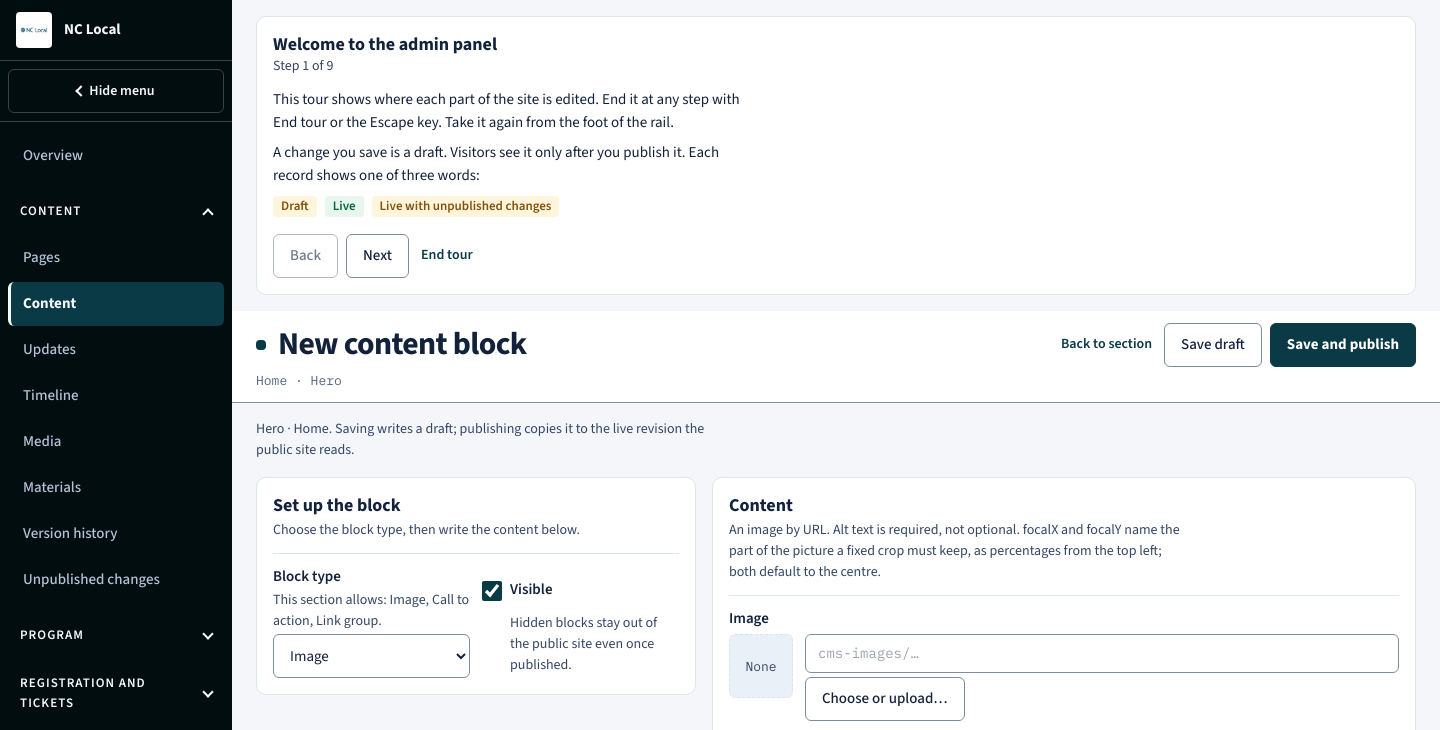
Test: AdminContentBlockEditor value fields › announces the warning through a polite live region that is there before it appears
The width and height of the screenshot is (1440, 730).
Check: the heading "New content block" is shown, box x1=278 y1=326 x2=527 y2=364
Select "Call to action" in the dropdown labelled "Block type" at (372, 656), box x1=273 y1=634 x2=470 y2=678
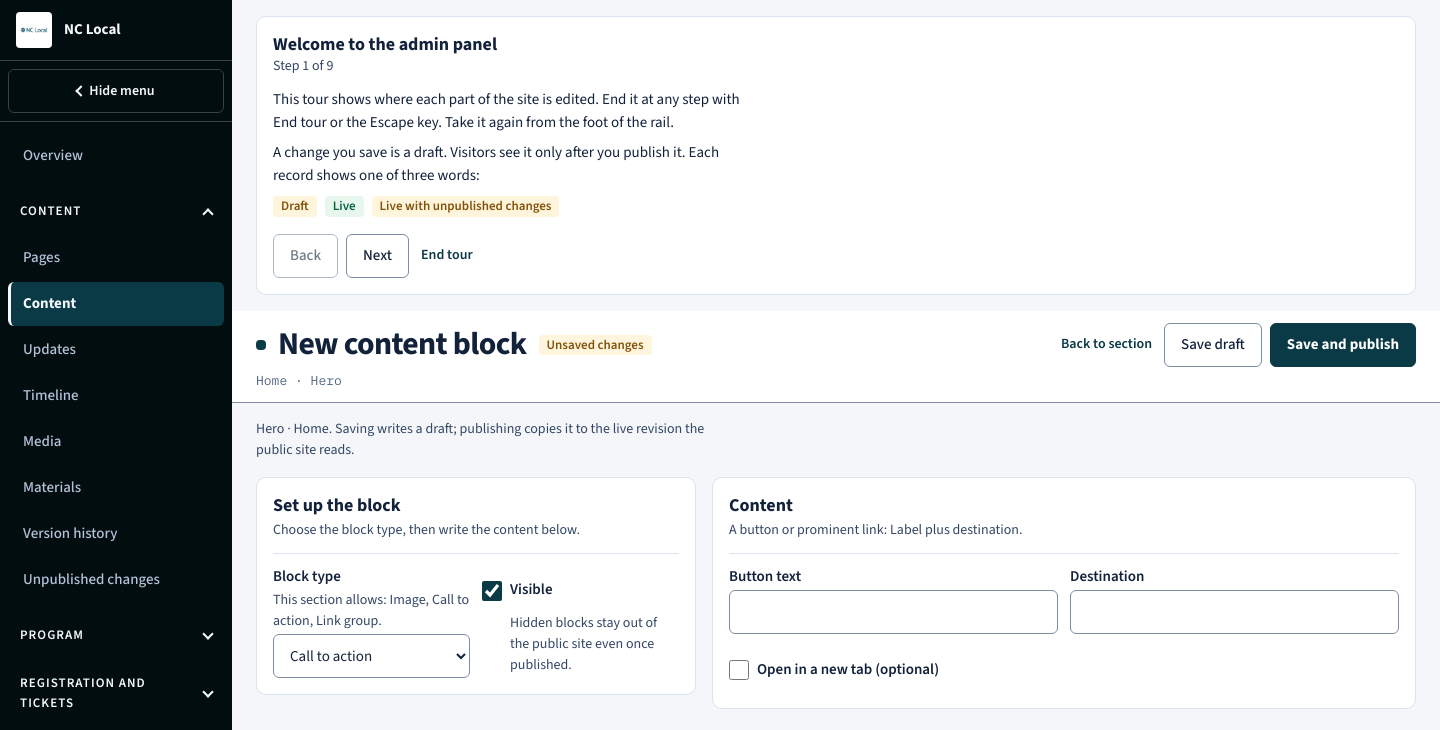
Type "/schedule" into the field labelled "Destination" at (1234, 612), box x1=1070 y1=590 x2=1399 y2=634
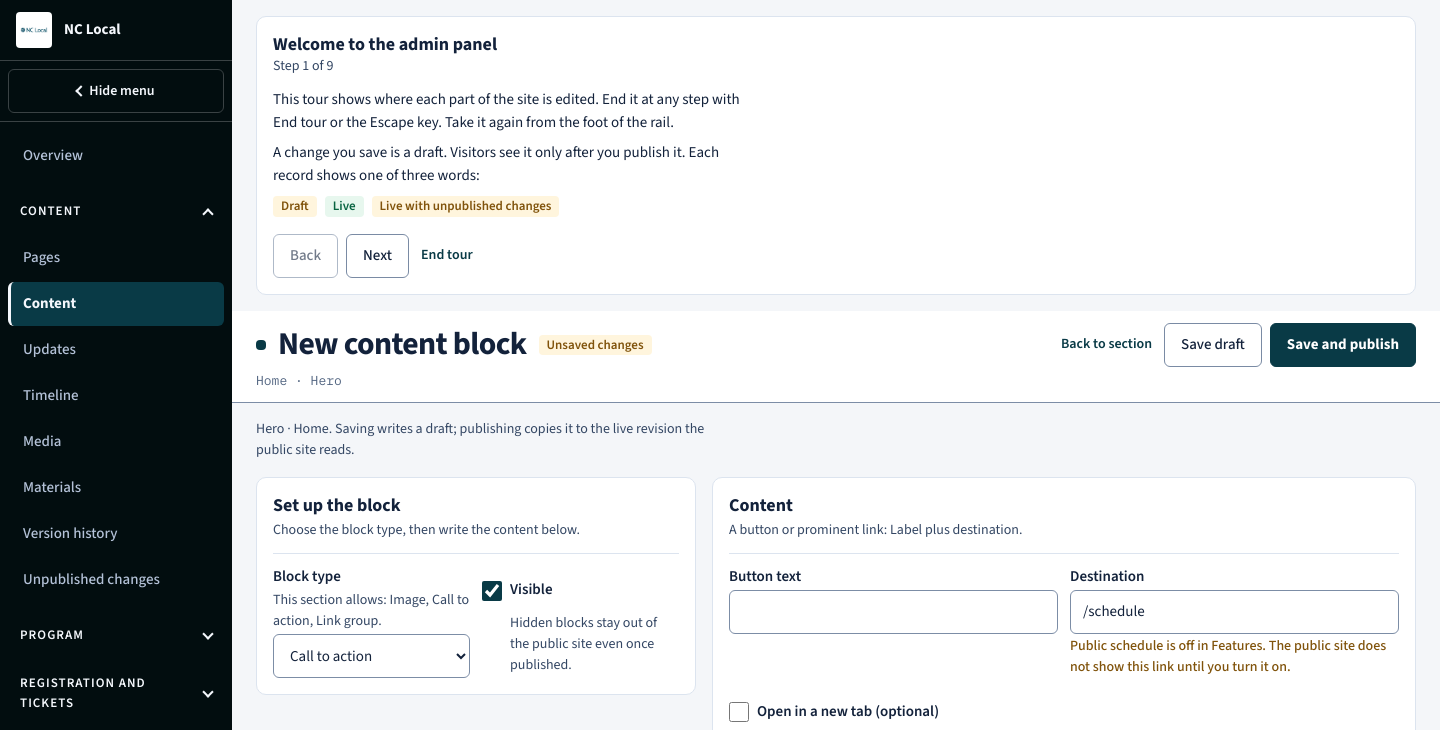
Check: the text "Public schedule is off in Features." is shown, box x1=1070 y1=636 x2=1386 y2=677
